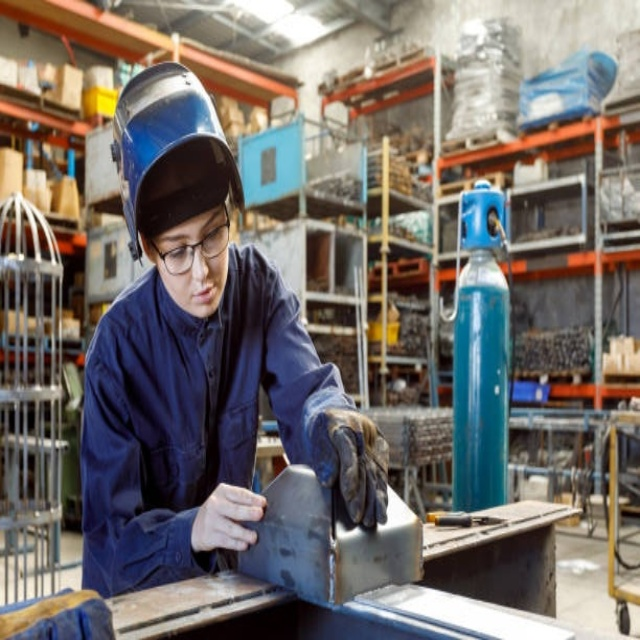Gafas: (150, 205, 230, 277)
Guantes: (309, 406, 389, 531)
Sin_guantes: (193, 482, 265, 553)
Sin_mascara: (184, 279, 222, 314)
